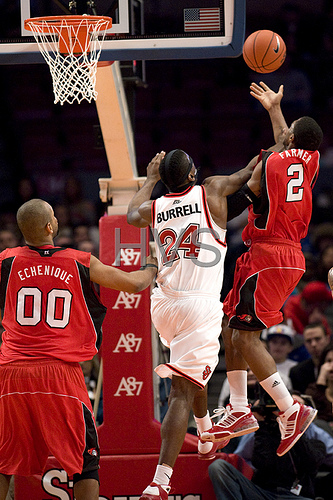basketball: (242, 28, 287, 75)
